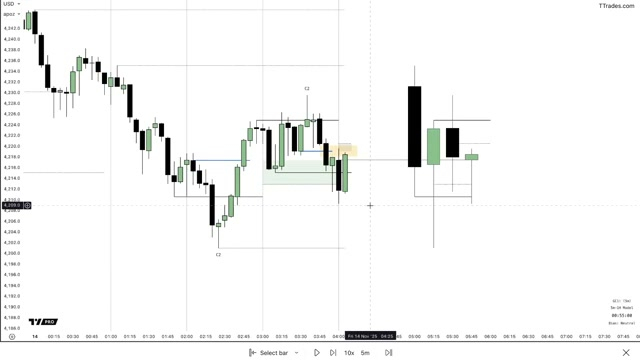bullish_reaction_zone: (269, 176, 371, 227)
liquidity_sweep_low: (329, 145, 358, 157)
protected_swing: (329, 145, 358, 157)
